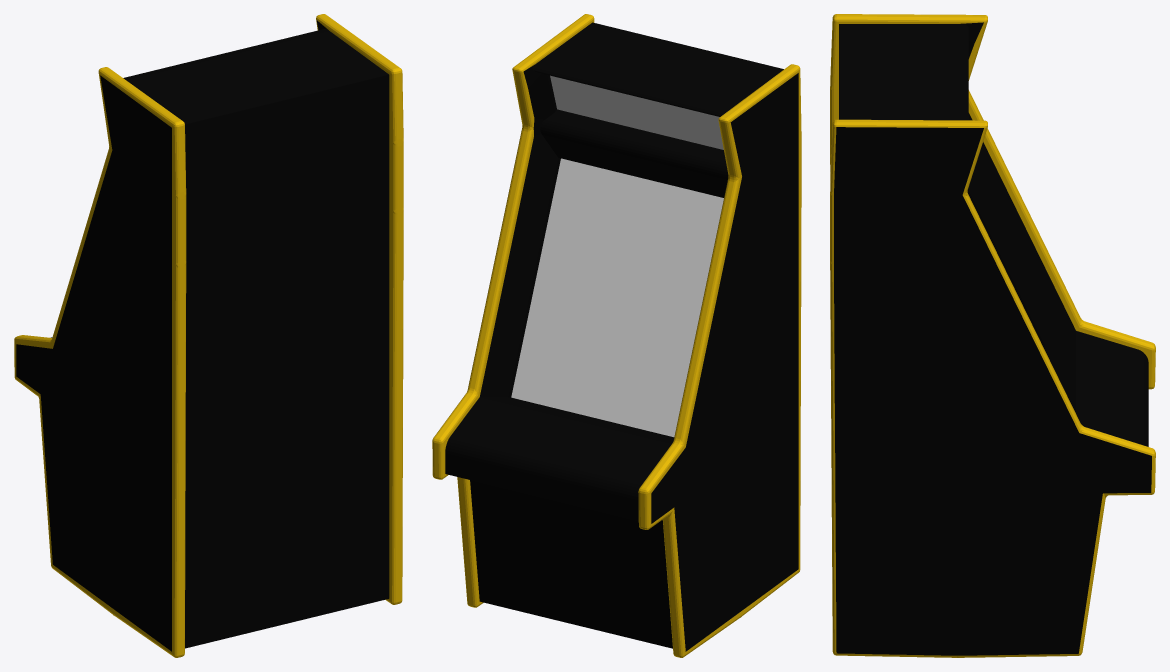
Rendered from arcadeCabinet.fbx.
3 renders of one model, left to right at view 1: azimuth 30°, elevation 25°; view 2: azimuth 150°, elevation 25°; view 3: azimuth 270°, elevation 25°, orthographic. The views are drawn at different scales.
Visible parts, largest first — view 1: Cabinet; view 2: Cabinet; view 3: Cabinet.
Boxes of the visible parts, x1=… form: Cabinet: x1=14, y1=14, x2=403, y2=657; Cabinet: x1=432, y1=14, x2=801, y2=657; Cabinet: x1=830, y1=14, x2=1155, y2=657.
Size of the model in its own units: 109 by 244 by 135.
